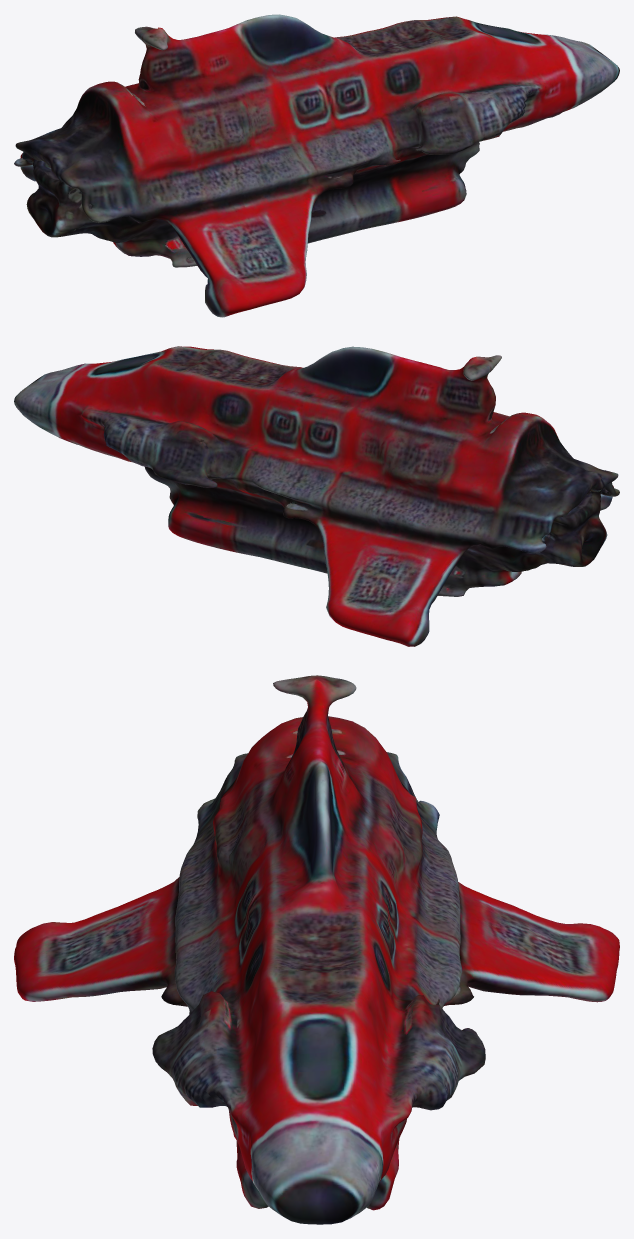
The model's file is 226dfeb1035e_dame_una_nave_espac.fbx.
3 renders of one model, top to bottom at view 1: azimuth 30°, elevation 25°; view 2: azimuth 150°, elevation 25°; view 3: azimuth 270°, elevation 25°, orthographic. The views are drawn at different scales.
Visible parts, largest first — view 1: mesh; view 2: mesh; view 3: mesh.
Boxes of the visible parts, box(x1,y1,x2,y2) form: mesh: box(14, 14, 619, 317); mesh: box(14, 346, 619, 646); mesh: box(14, 675, 619, 1224).
Size of the model in its own units: 99.82 by 39.04 by 63.48.
